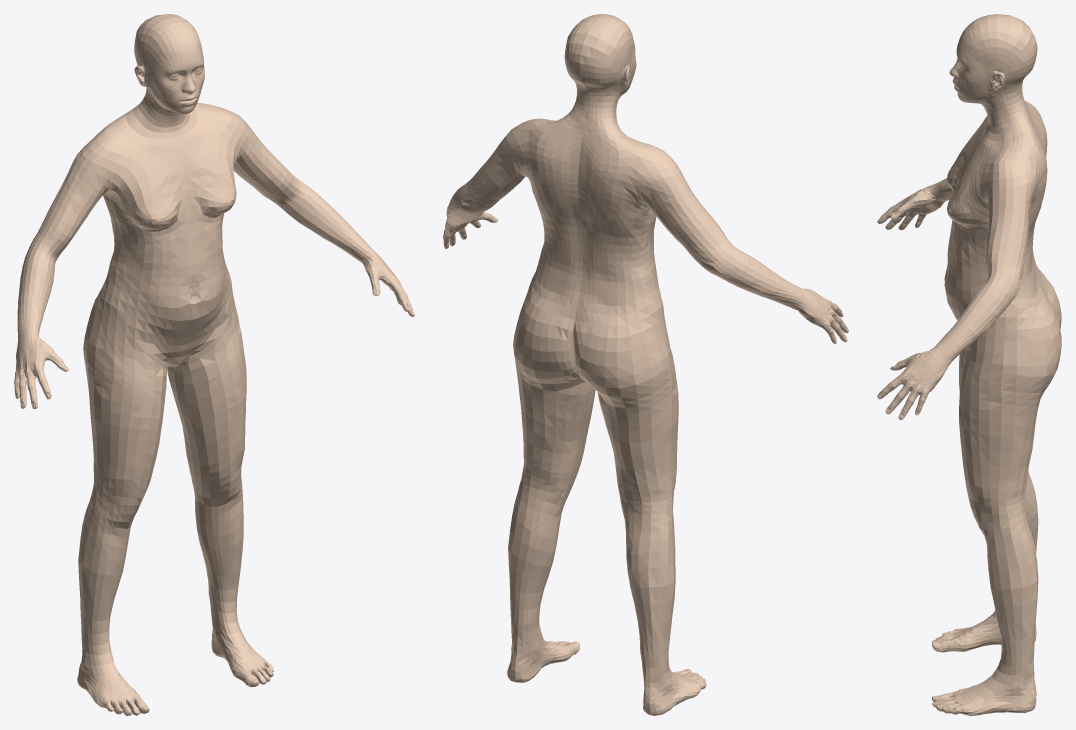
The model's file is female-adult-max-medium.glb.
3 views of the same model, side by side, from view 1: azimuth 30°, elevation 25°; view 2: azimuth 150°, elevation 25°; view 3: azimuth 270°, elevation 25° (orthographic).
Parts seen in each view (by area): view 1: world; view 2: world; view 3: world.
Part boxes in pixels (left/top/right/bottom): world: left=14, top=14, right=414, bottom=715; world: left=443, top=14, right=848, bottom=715; world: left=877, top=14, right=1061, bottom=715.
Size of the model in its own units: 1.12 by 1.81 by 0.4587.
